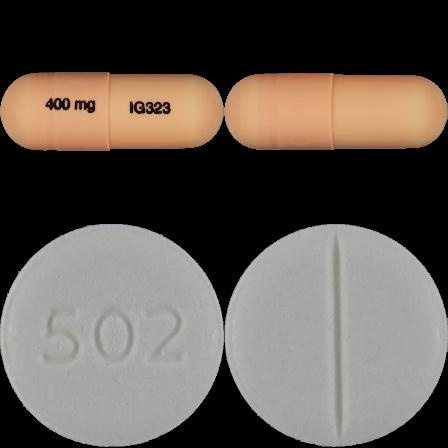68788-6438: (0, 0, 224, 224)
